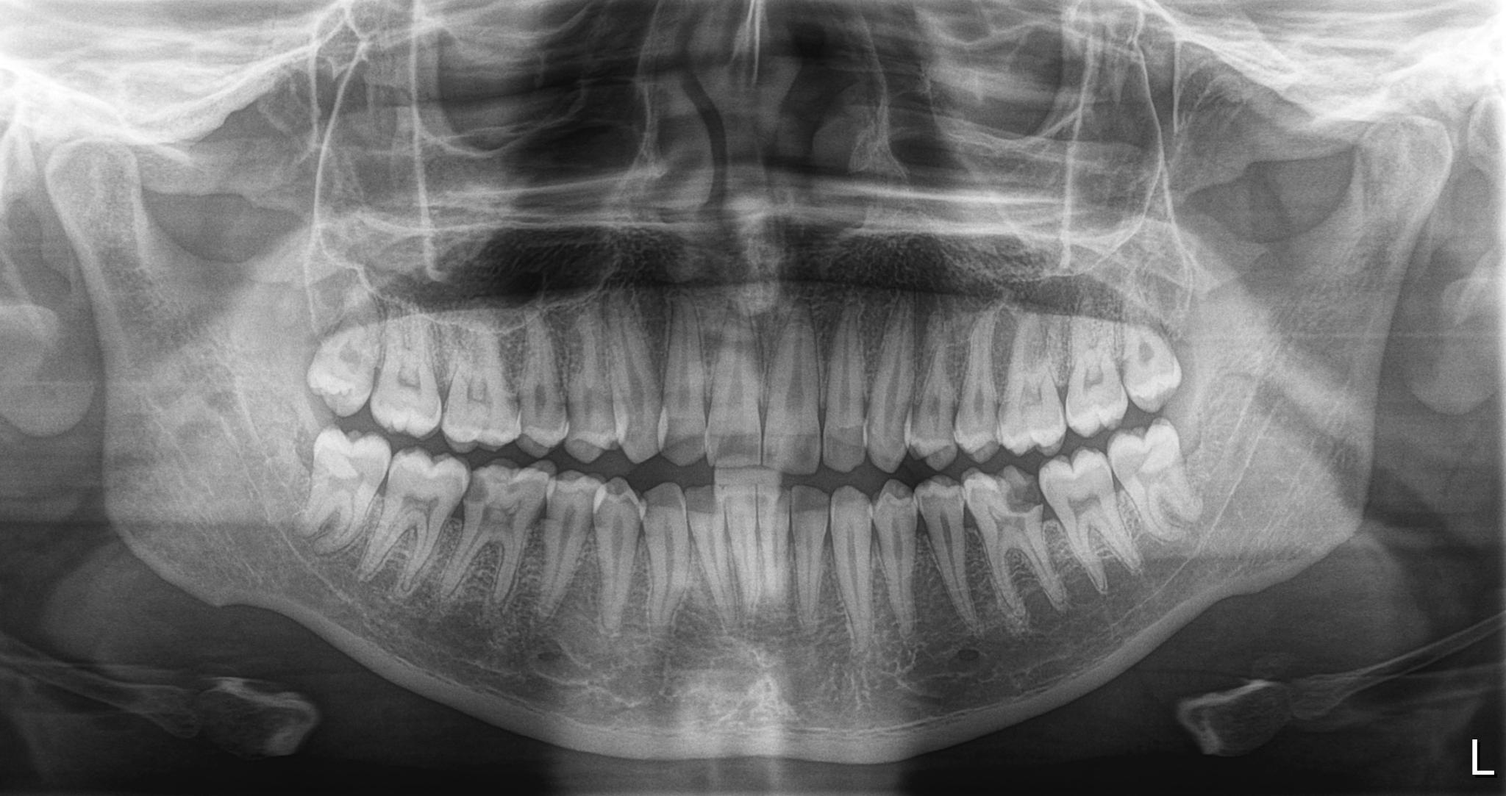Dental Caries: (982, 470, 1041, 526)
Impacted Third Molar: (1101, 406, 1195, 555), (302, 424, 388, 547)
Periapical Lesion: (953, 548, 1116, 633)
